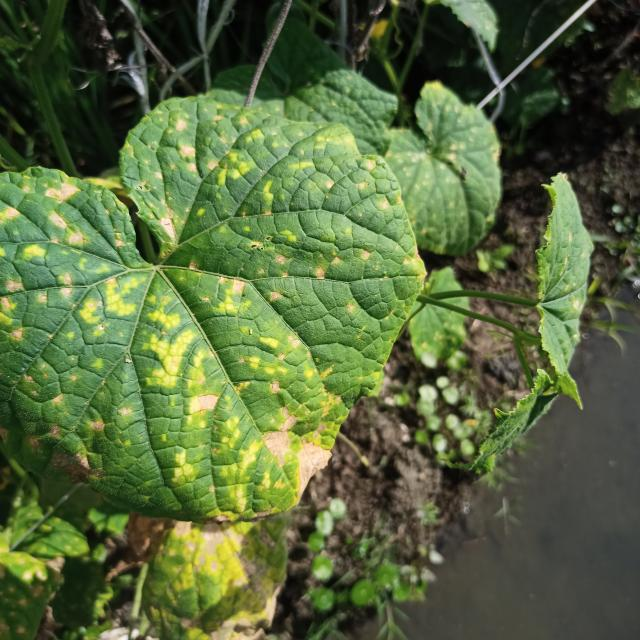disease_cucumber: (0, 97, 428, 510)
